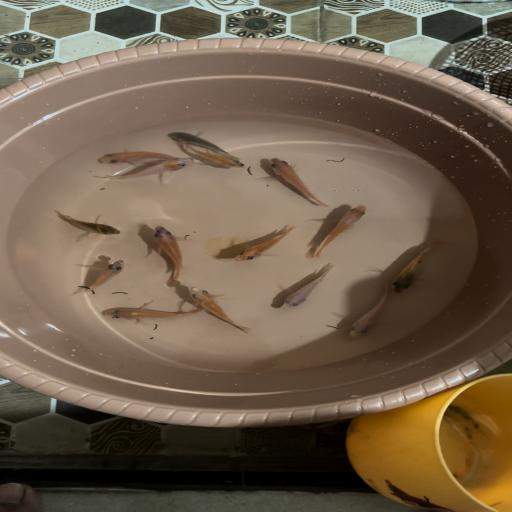nila: (329, 267, 395, 340), (180, 285, 261, 339), (387, 236, 452, 297), (250, 158, 328, 208), (308, 203, 376, 260), (274, 262, 341, 316), (143, 225, 197, 288), (226, 224, 302, 267), (96, 157, 198, 189), (66, 257, 138, 299), (96, 304, 208, 330), (43, 207, 133, 238), (164, 127, 236, 154), (92, 146, 172, 168), (184, 150, 250, 176)
